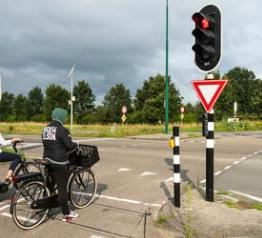red_light: (191, 4, 222, 72)
